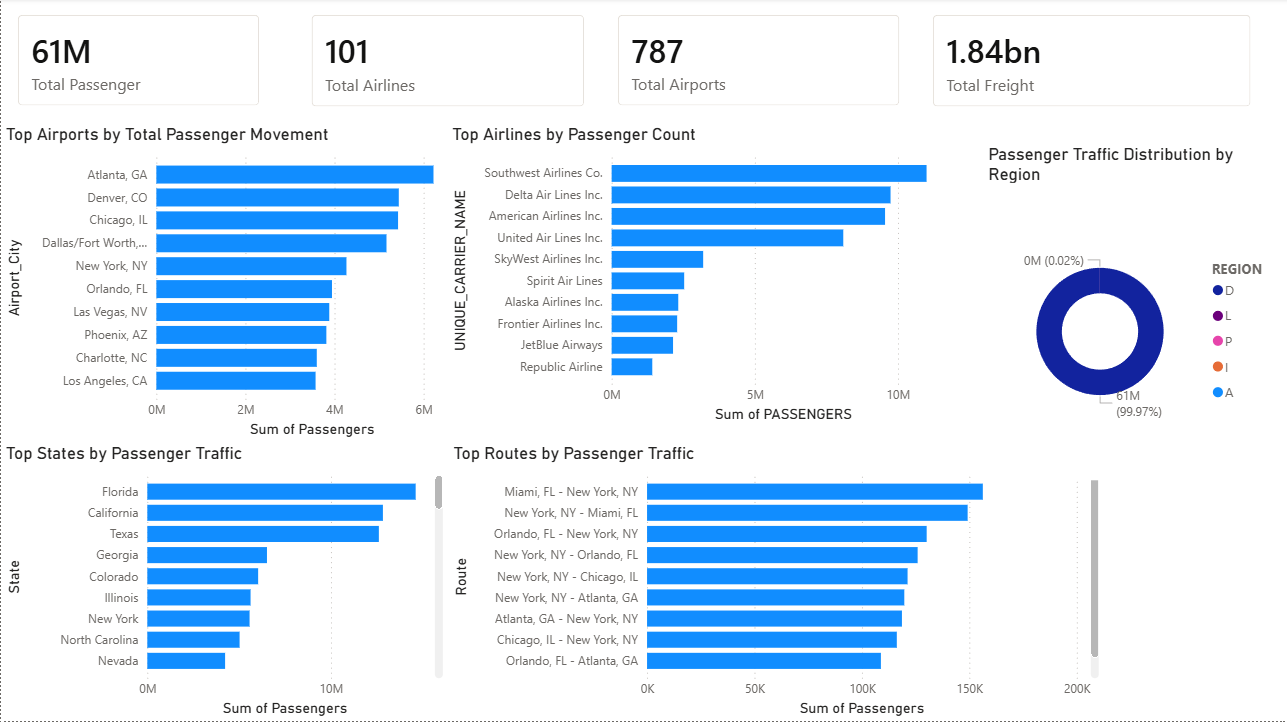

Layout of this report page (visuals, bound fields, positions):
{"tool":"powerbi","page":{"name":"Page 1","canvas":[1280,720],"ordinal":0},"visuals":[{"type":"cardVisual","fields":{"Data":["Sum(cleaned_airport_data.FREIGHT)"]},"box":[910.8,0,350.4,125.4],"z":0},{"type":"cardVisual","fields":{"Data":["Sum(cleaned_airport_data.PASSENGERS)"]},"box":[0,0,274.4,124.9],"z":1000},{"type":"cardVisual","fields":{"Data":["Count(cleaned_airport_data.UNIQUE_CARRIER_NAME)"]},"box":[291.8,0,305.4,125.4],"z":2000},{"type":"cardVisual","fields":{"Data":["Count(cleaned_airport_data.ORIGIN)"]},"box":[596.9,0,314.2,124.9],"z":3000},{"type":"clusteredBarChart","title":"Top Airports by Total Passenger Movement","fields":{"Category":["Airport_Traffic.Airport_City"],"Y":["Sum(Airport_Traffic.Passengers)"]},"box":[0,125.6,479.1,316.7],"z":3001},{"type":"clusteredBarChart","title":"Top Airlines by Passenger Count","fields":{"Category":["cleaned_airport_data.UNIQUE_CARRIER_NAME"],"Y":["Sum(cleaned_airport_data.PASSENGERS)"]},"box":[443.6,125.6,522.8,301.6],"z":3002},{"type":"clusteredBarChart","title":"Top States by Passenger Traffic","fields":{"Category":["State_Traffic.State"],"Y":["Sum(State_Traffic.Passengers)"]},"box":[0,442.2,445,277.1],"z":3003},{"type":"clusteredBarChart","title":"Top Routes by Passenger Traffic","fields":{"Category":["Route_Traffic.Route"],"Y":["Sum(Route_Traffic.Passengers)"]},"box":[445,442.2,652.4,277.1],"z":3004},{"type":"donutChart","title":"Passenger Traffic Distribution by Region","fields":{"Category":["cleaned_airport_data.REGION"],"Y":["Sum(cleaned_airport_data.PASSENGERS)"]},"box":[977.8,145.5,302.3,334.6],"z":3005}]}

Visuals, with their boxes in screenshot pixels (x1, y1, x2, y2), scaled from the page's 1280x720 canvas onto the 1287x722 screenshot:
cardVisual - Sum(cleaned_airport_data.FREIGHT): box=[916, 0, 1268, 126]
cardVisual - Sum(cleaned_airport_data.PASSENGERS): box=[0, 0, 276, 125]
cardVisual - Count(cleaned_airport_data.UNIQUE_CARRIER_NAME): box=[293, 0, 600, 126]
cardVisual - Count(cleaned_airport_data.ORIGIN): box=[600, 0, 916, 125]
"Top Airports by Total Passenger Movement" clusteredBarChart: box=[0, 126, 482, 444]
"Top Airlines by Passenger Count" clusteredBarChart: box=[446, 126, 972, 428]
"Top States by Passenger Traffic" clusteredBarChart: box=[0, 443, 447, 721]
"Top Routes by Passenger Traffic" clusteredBarChart: box=[447, 443, 1103, 721]
"Passenger Traffic Distribution by Region" donutChart: box=[983, 146, 1286, 481]
